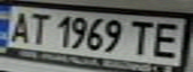1: (51, 12, 72, 48)
6: (84, 16, 109, 52)
9: (103, 16, 130, 54), (66, 15, 87, 51)
A: (3, 8, 33, 44)
E: (145, 19, 190, 60)
T: (124, 18, 160, 56), (24, 10, 51, 46)
